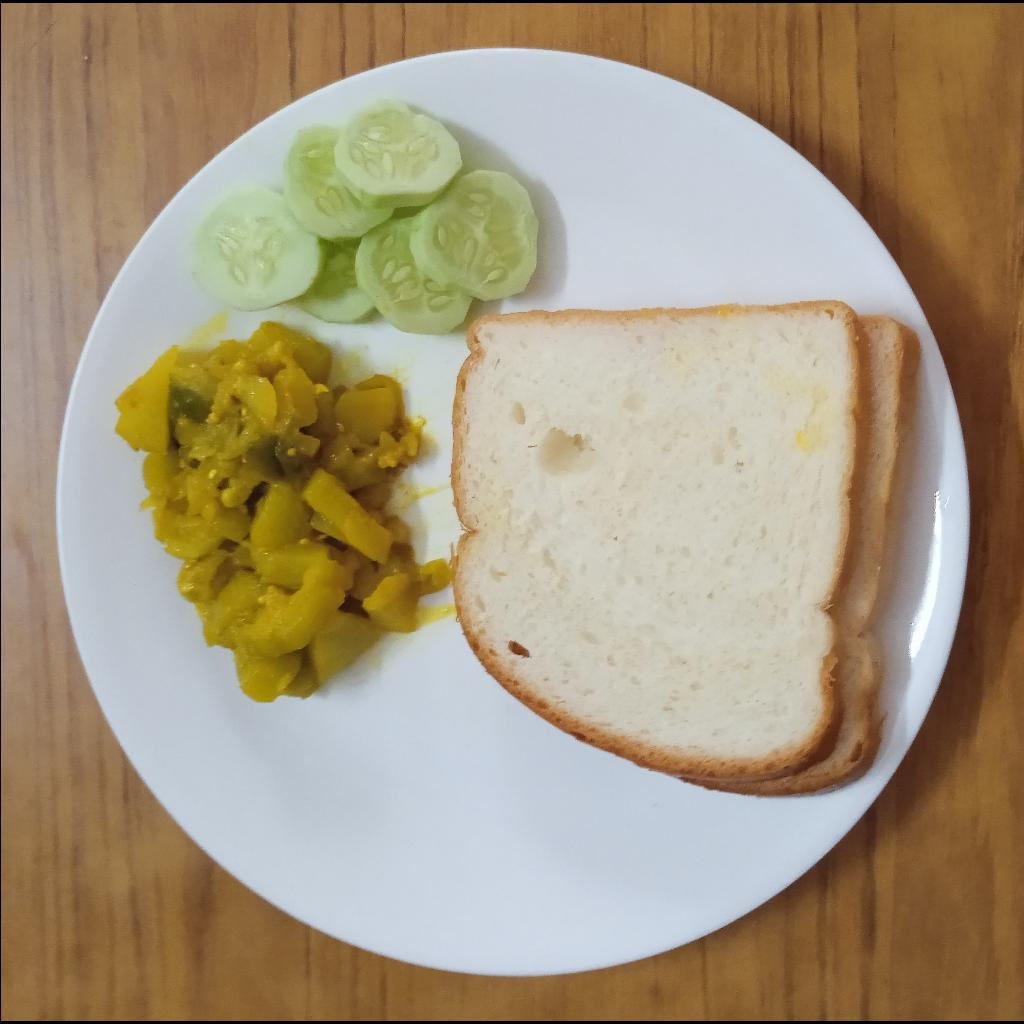bread: (451, 298, 917, 800)
cucumber: (191, 96, 544, 335)
lau: (111, 323, 448, 712)
